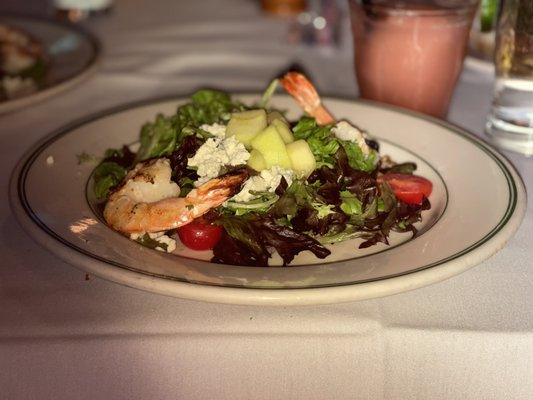pizza: (347, 0, 479, 120), (484, 0, 533, 154)
sushi: (0, 11, 103, 117)
